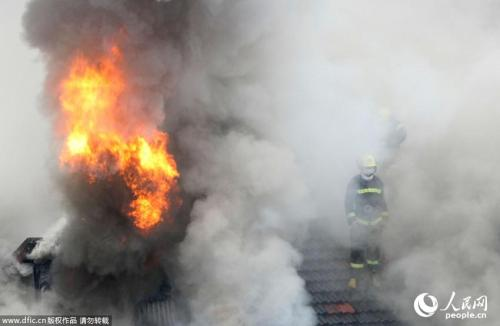fire: (56, 63, 180, 224)
smoke: (186, 8, 492, 306)
